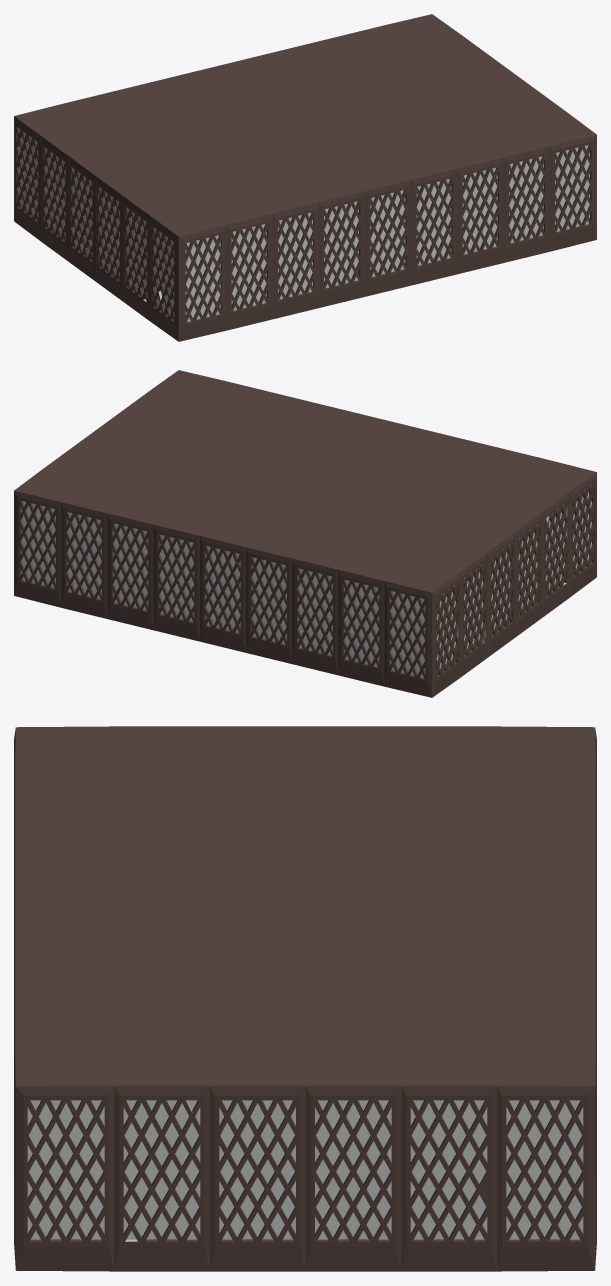
File: SM_Env_Base_09.fbx
3 views of the same model, one above another, from view 1: azimuth 30°, elevation 25°; view 2: azimuth 150°, elevation 25°; view 3: azimuth 270°, elevation 25° (orthographic). The views are drawn at different scales.
Parts seen in each view (by area): view 1: SM_Env_Base_09; view 2: SM_Env_Base_09; view 3: SM_Env_Base_09.
Part boxes in pixels (<box>): SM_Env_Base_09: <box>14,14,596,341</box>; SM_Env_Base_09: <box>14,370,596,697</box>; SM_Env_Base_09: <box>14,726,596,1271</box>.
Bounding box in the file's own units: 876 × 211 × 599.
Materials: 1 (1 with a texture image).
